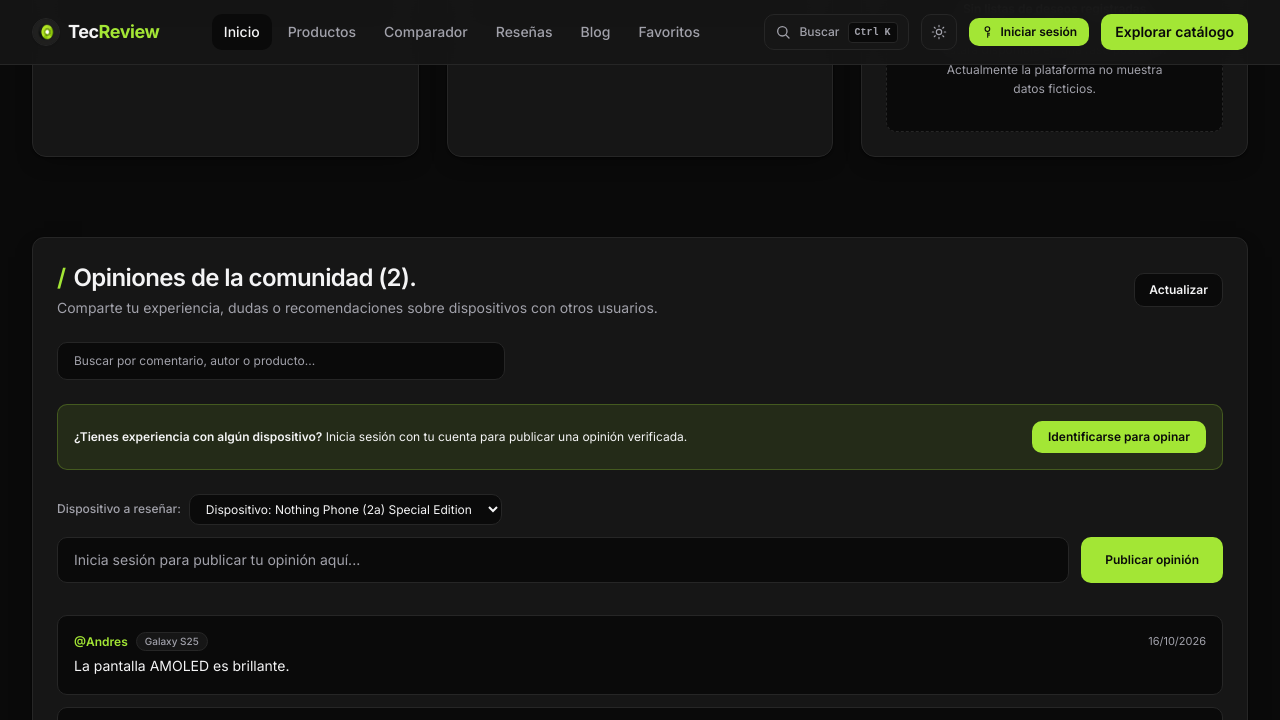
Test: Página principal / (Home) › 9. Opiniones de la comunidad persistidas › el filtro de opiniones permite buscar dinámicamente por palabra clave
This screenshot has width=1280, height=720.
(page scrolled)
Expected: the text "La pantalla AMOLED es brillante." is shown, [74,657,290,674]
Type "MacBook" into the search field named "Filtrar opiniones de la comunidad". click: [281, 361]
box: [57,342,505,380]
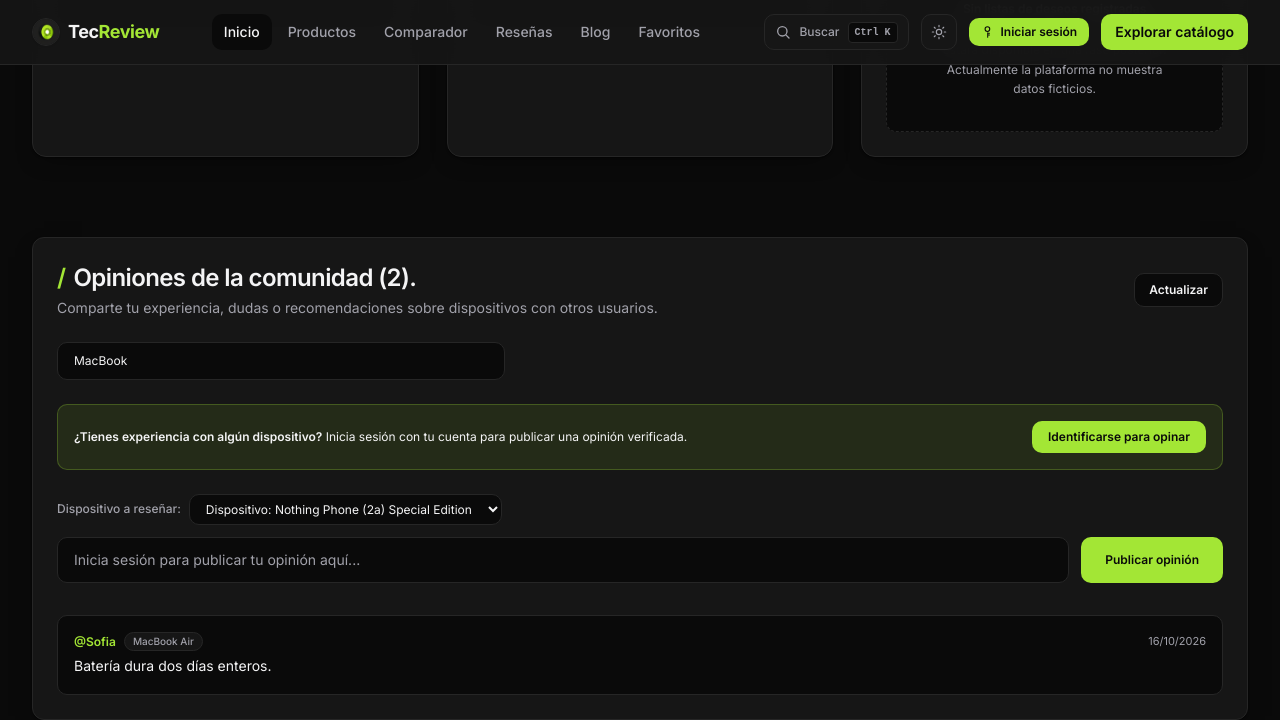
Expected: the text "Batería dura dos días enteros." is shown, [74,657,272,674]
Expected: the text "La pantalla AMOLED es brillante." is gone
